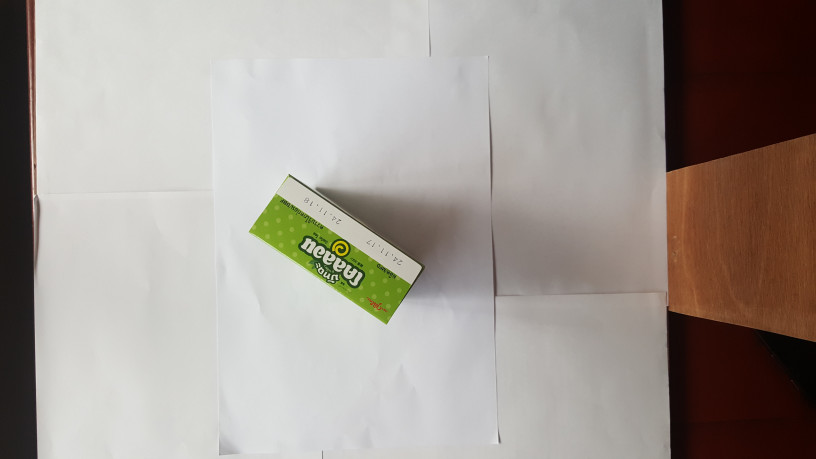collon-matcha: (245, 173, 423, 325)
